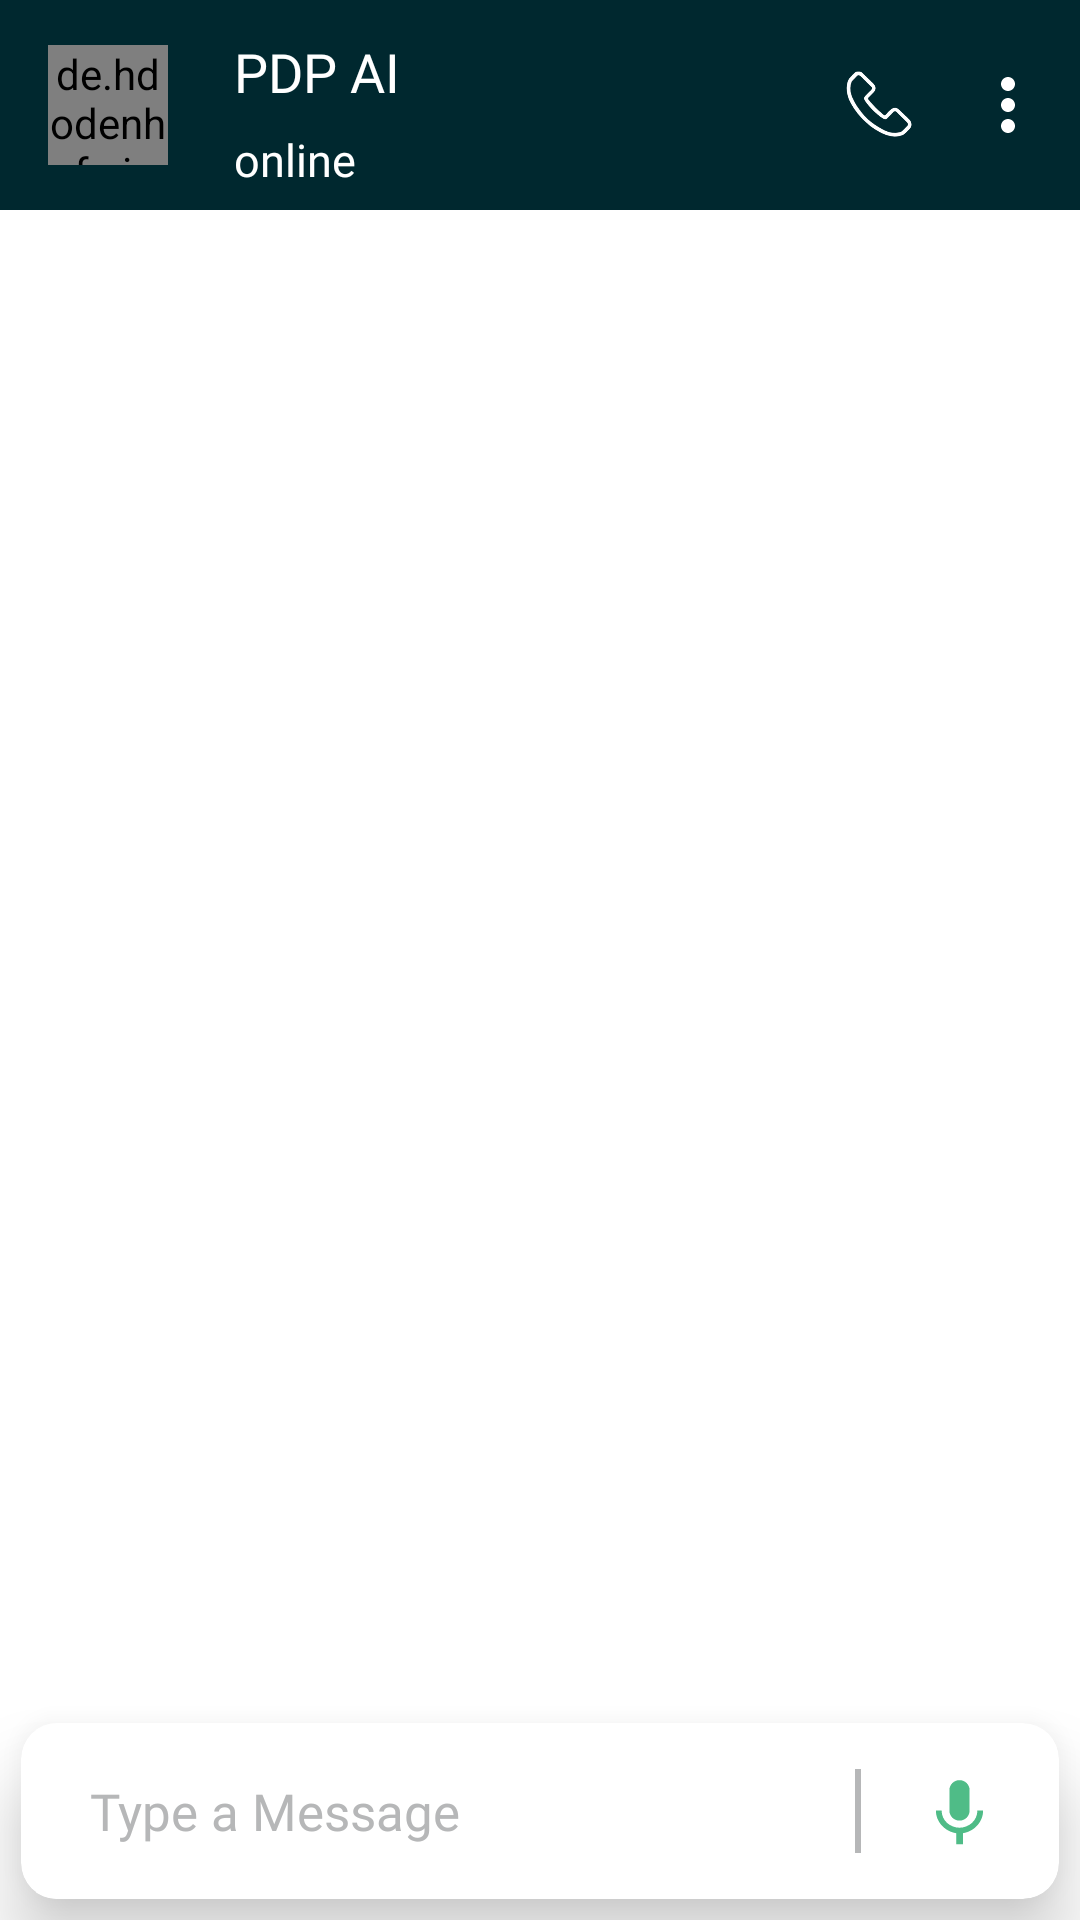

Icon bounding boxes for this 1080x1920 phone screenshot, format [x1=x1, y1=y1, x2=x2, y2=y2]:
call: [x1=846, y1=71, x2=912, y2=137]
more vert: [x1=1001, y1=77, x2=1015, y2=133]
voice: [x1=936, y1=1780, x2=983, y2=1845]
